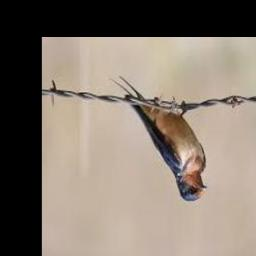Swallow: (110, 78, 208, 201)
